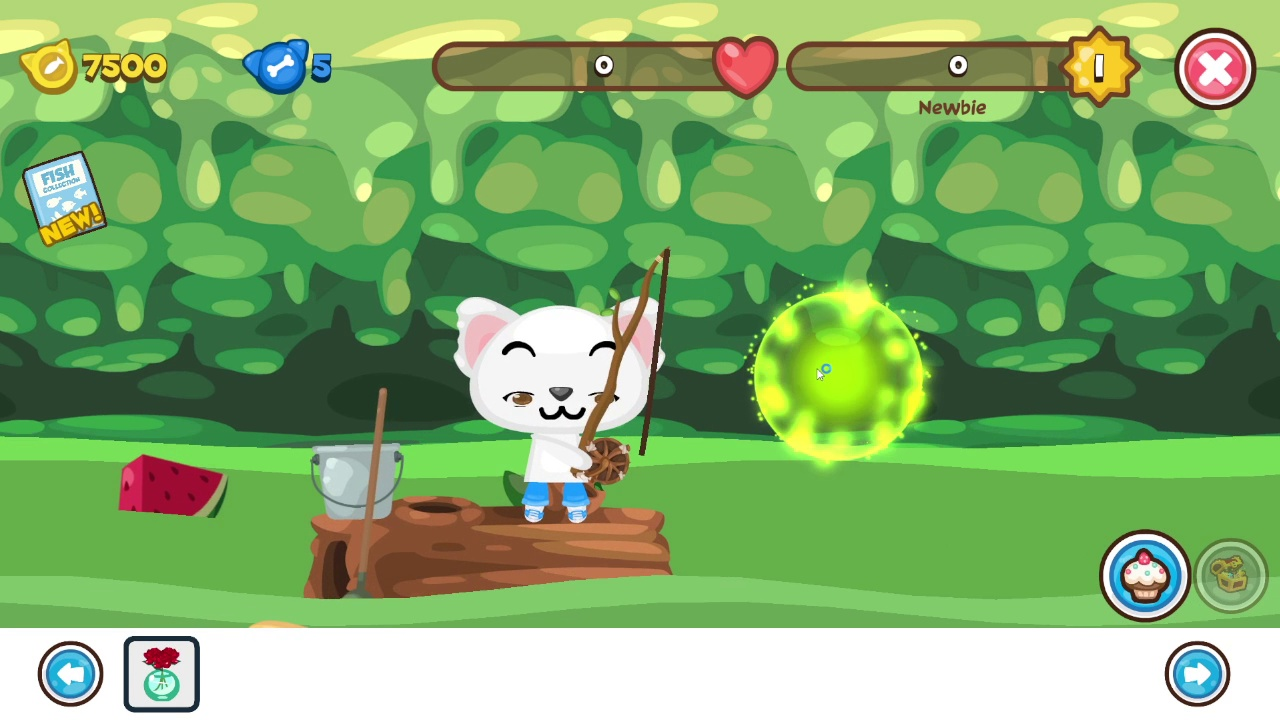point: (751, 291, 924, 458)
